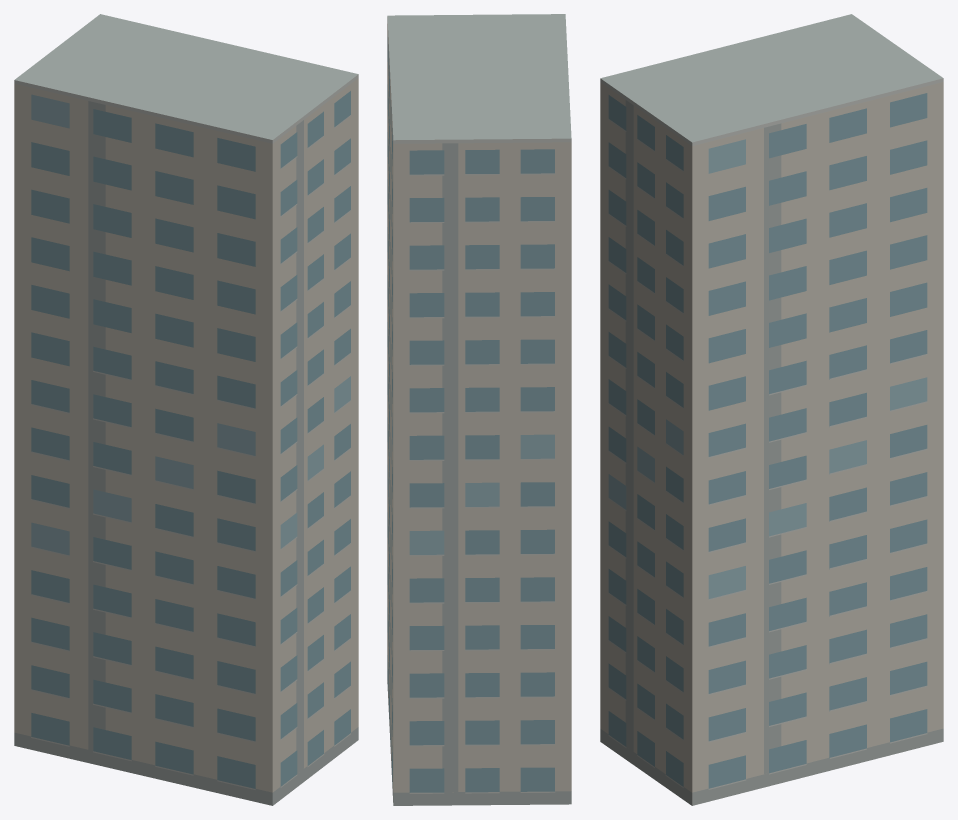
The model's file is residential-bae54aff-ce7b-4b97-87c1-14c2006d4039.glb.
3 views of the same model, side by side, from view 1: azimuth 30°, elevation 25°; view 2: azimuth 150°, elevation 25°; view 3: azimuth 270°, elevation 25° (orthographic).
Visible parts, largest first — view 1: residential-bae54aff-ce7b-4b97-87c1-14c2006d4039.tmp; view 2: residential-bae54aff-ce7b-4b97-87c1-14c2006d4039.tmp; view 3: residential-bae54aff-ce7b-4b97-87c1-14c2006d4039.tmp.
Boxes of the visible parts, box(x1,y1,x2,y2) form: residential-bae54aff-ce7b-4b97-87c1-14c2006d4039.tmp: box(14, 14, 358, 805); residential-bae54aff-ce7b-4b97-87c1-14c2006d4039.tmp: box(387, 14, 571, 805); residential-bae54aff-ce7b-4b97-87c1-14c2006d4039.tmp: box(600, 14, 943, 805).
Size of the model in its own units: 18.28 by 44 by 20.65.
